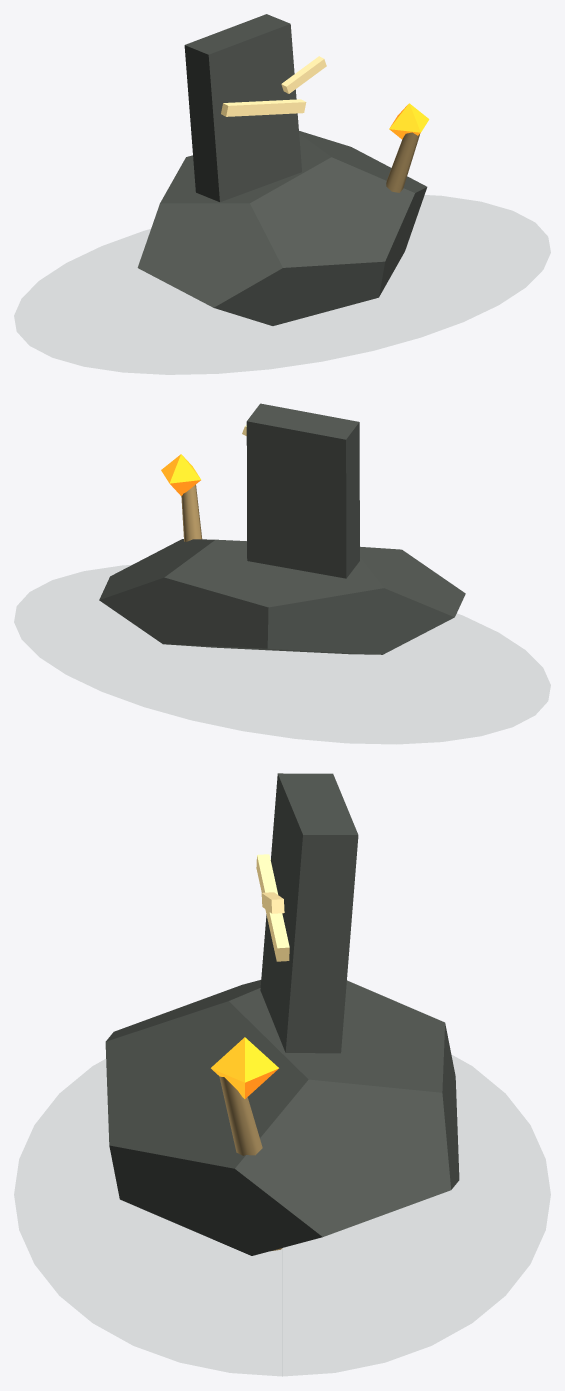
Rendered from cave_return_mark.glb.
The picture shows the model from 3 angles, top to bottom: view 1: azimuth 30°, elevation 25°; view 2: azimuth 150°, elevation 25°; view 3: azimuth 270°, elevation 25°; orthographic projection. The views are drawn at different scales.
Visible parts, largest first — view 1: soft_ground_shadow, return_mark_flat_rock, return_mark_upright_slab, return_mark_chalk_arrow, return_mark_torch_stub, return_mark_torch_tip, return_mark_chalk_notch; view 2: soft_ground_shadow, return_mark_flat_rock, return_mark_upright_slab, return_mark_torch_tip, return_mark_torch_stub; view 3: return_mark_flat_rock, soft_ground_shadow, return_mark_upright_slab, return_mark_torch_tip, return_mark_torch_stub, return_mark_chalk_arrow.
Boxes of the visible parts, x1,y1,x2,y2 form: soft_ground_shadow: [15, 195, 550, 374]; return_mark_flat_rock: [137, 131, 427, 325]; return_mark_upright_slab: [184, 14, 301, 201]; return_mark_chalk_arrow: [221, 99, 306, 116]; return_mark_torch_stub: [386, 132, 419, 192]; return_mark_torch_tip: [389, 103, 429, 139]; return_mark_chalk_notch: [281, 56, 326, 93]; soft_ground_shadow: [15, 565, 550, 743]; return_mark_flat_rock: [99, 539, 465, 654]; return_mark_upright_slab: [246, 403, 359, 578]; return_mark_torch_tip: [161, 454, 200, 495]; return_mark_torch_stub: [181, 484, 202, 541]; return_mark_flat_rock: [105, 980, 459, 1255]; soft_ground_shadow: [14, 1056, 550, 1375]; return_mark_upright_slab: [260, 773, 358, 1053]; return_mark_torch_tip: [211, 1037, 278, 1098]; return_mark_torch_stub: [219, 1076, 282, 1250]; return_mark_chalk_arrow: [256, 854, 289, 961].
Size of the model in its own units: 2.75 by 1.31 by 1.72.
